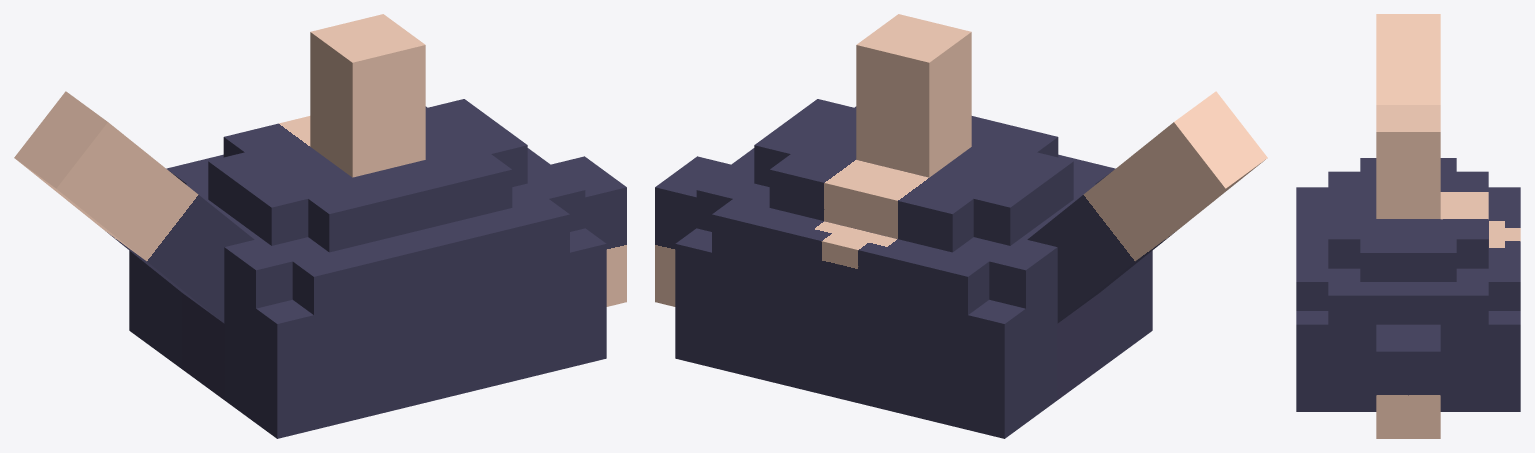
The model's file is body.gltf.
3 views of the same model, side by side, from view 1: azimuth 30°, elevation 25°; view 2: azimuth 150°, elevation 25°; view 3: azimuth 270°, elevation 25° (orthographic). The views are drawn at different scales.
Parts seen in each view (by area): view 1: cube (×12); view 2: cube (×12); view 3: cube (×11).
Part boxes in pixels (x1=…): cube (×12): x1=14, y1=14, x2=626, y2=438; cube (×12): x1=655, y1=14, x2=1267, y2=438; cube (×11): x1=1296, y1=14, x2=1520, y2=438.
Size of the model in its own units: 1.95 by 1 by 0.875.
1 material, 1 textured.
